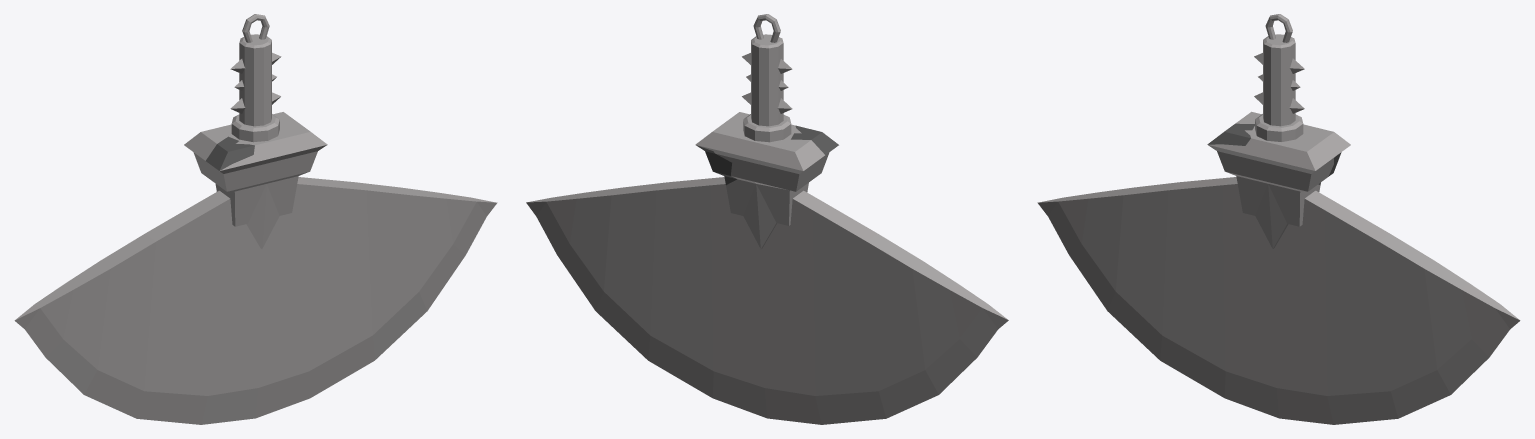
File: MetalPendulumTrap_4.fbx
3 views of the same model, side by side, from view 1: azimuth 30°, elevation 25°; view 2: azimuth 150°, elevation 25°; view 3: azimuth 330°, elevation 25° (orthographic).
Visible parts, largest first — view 1: MetalPendulumTrap_4; view 2: MetalPendulumTrap_4; view 3: MetalPendulumTrap_4.
Part boxes in pixels (x1,y1,x2,y2): MetalPendulumTrap_4: (14, 14, 497, 424); MetalPendulumTrap_4: (526, 14, 1008, 424); MetalPendulumTrap_4: (1037, 14, 1520, 424).
Size of the model in its own units: 162 by 130 by 20.83.
